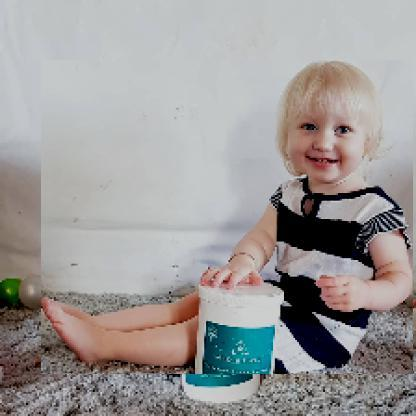child: (42, 61, 415, 376)
